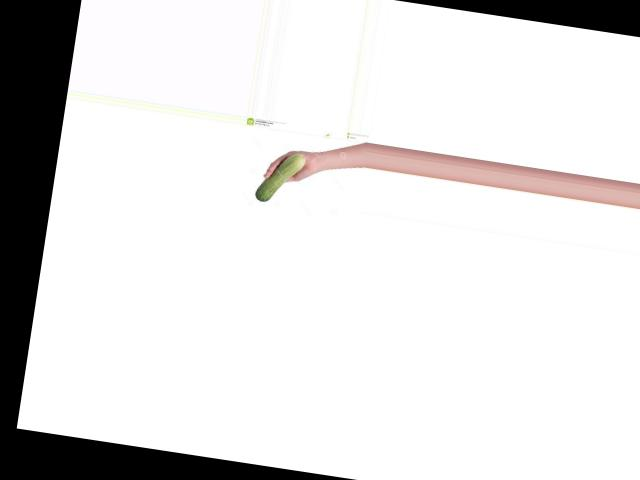cucumber: (255, 148, 306, 206)
